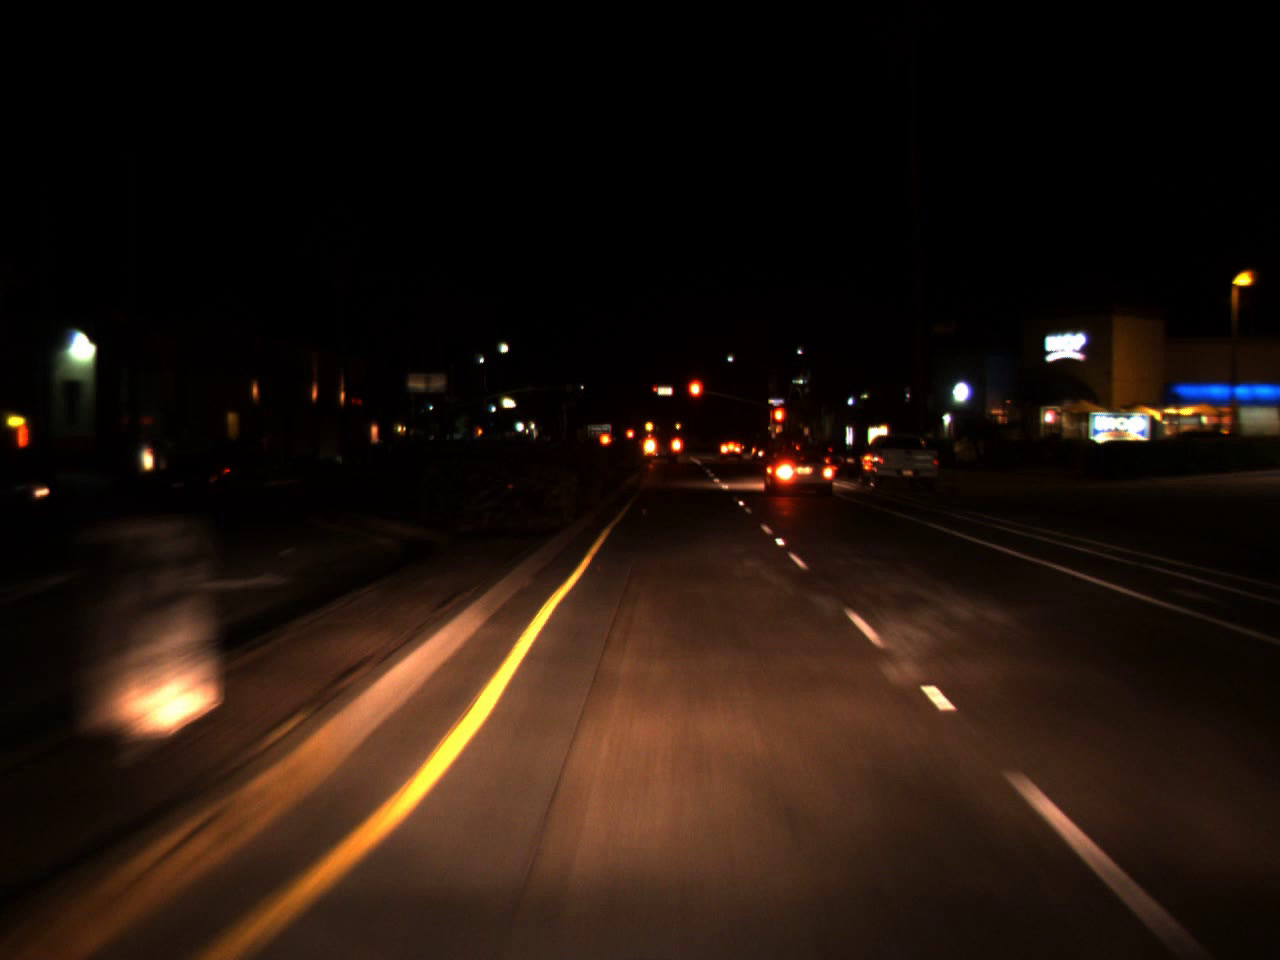stop: (685, 377, 703, 417), (771, 404, 786, 441), (652, 386, 659, 399)
